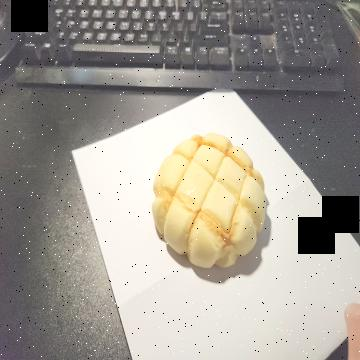melon_bread: (153, 134, 269, 270)
